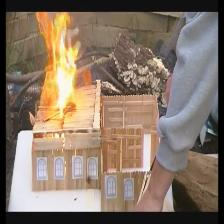fire: (37, 11, 81, 114)
